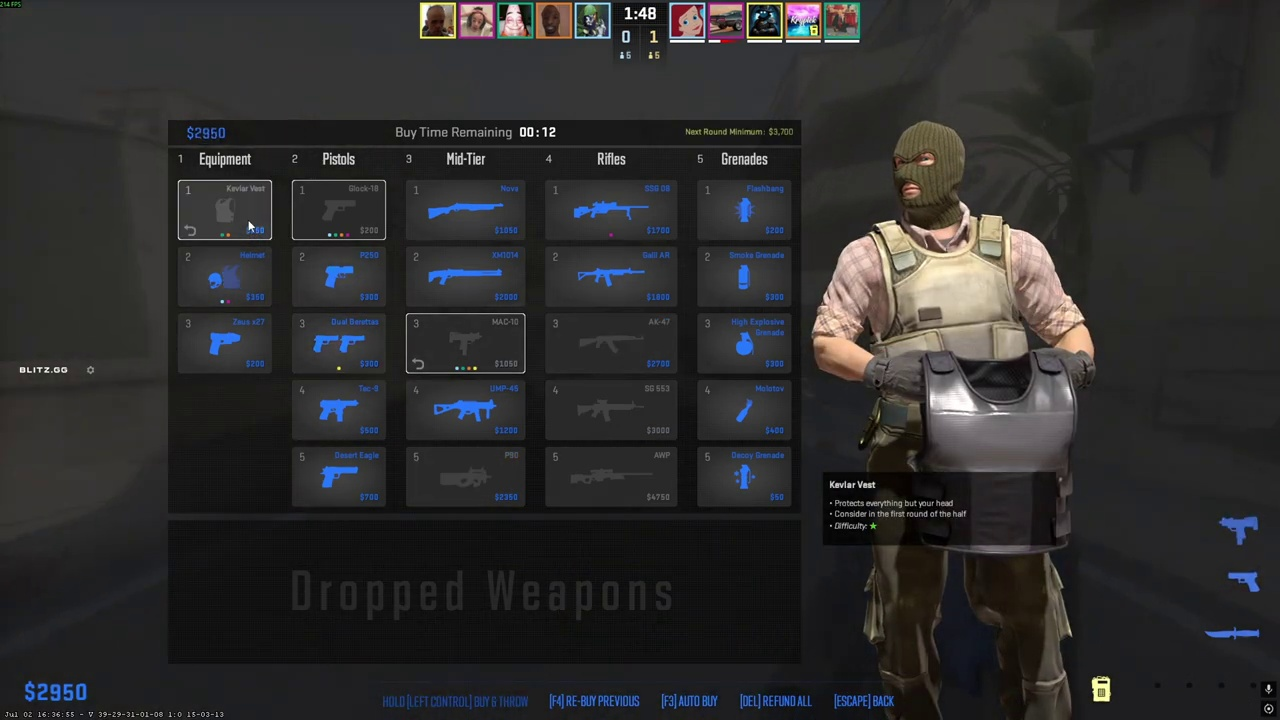Terrorist: (854, 121, 1086, 720)
